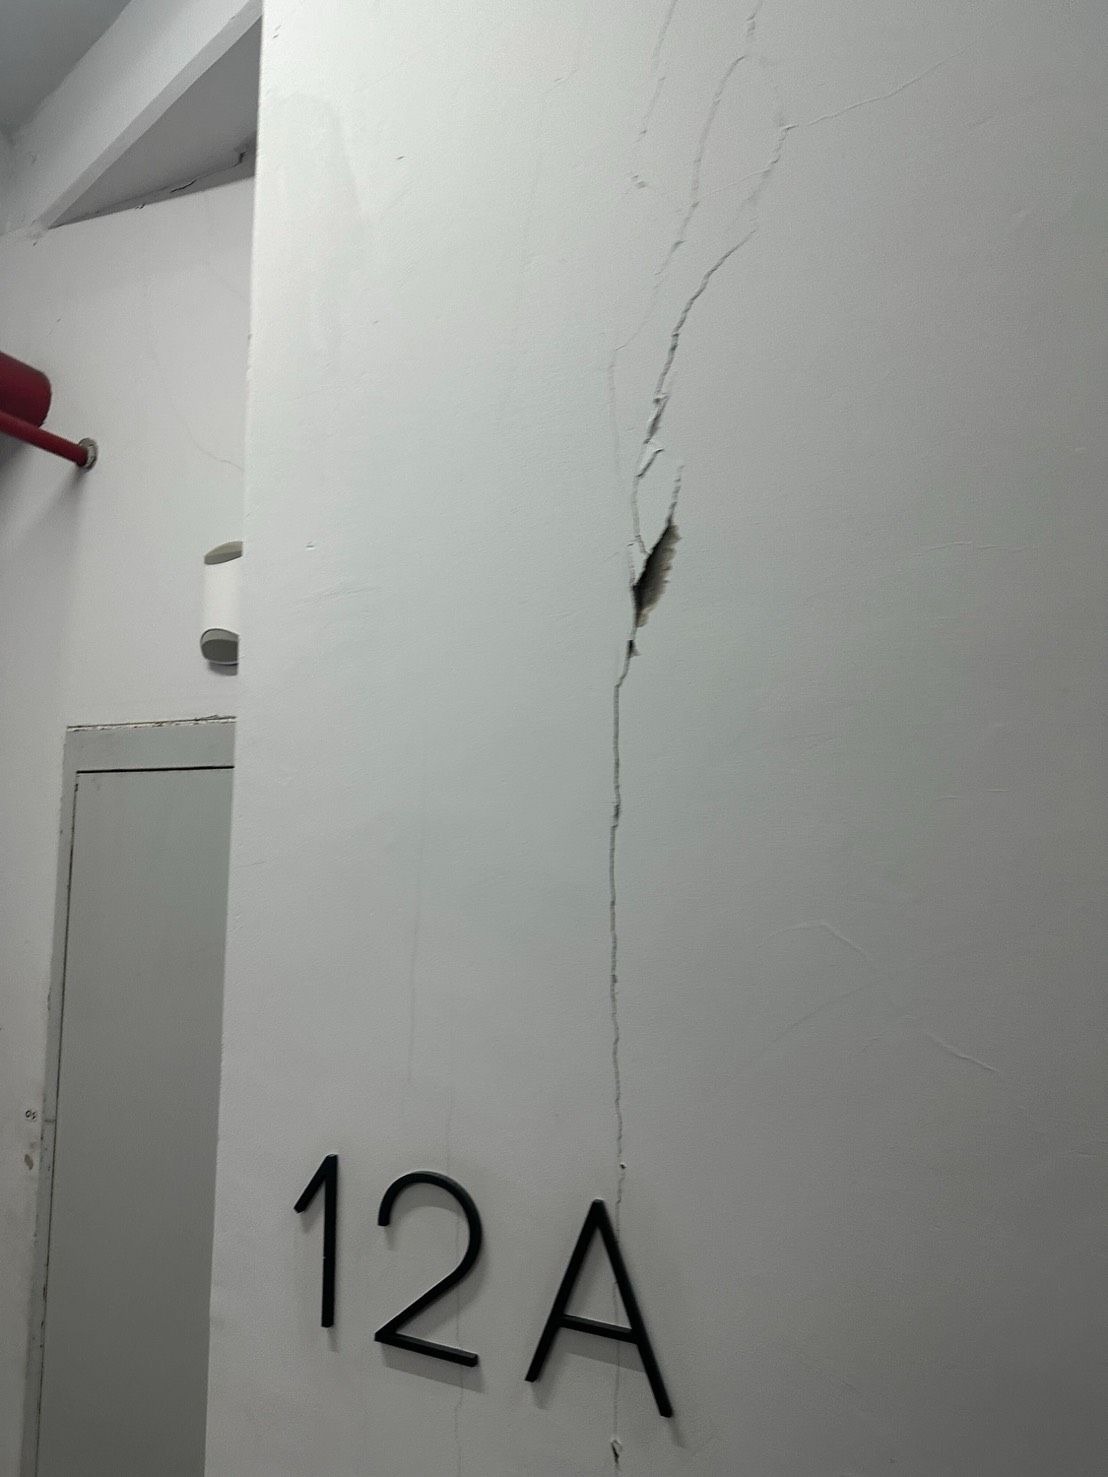Medium: (512, 143, 793, 1119)
